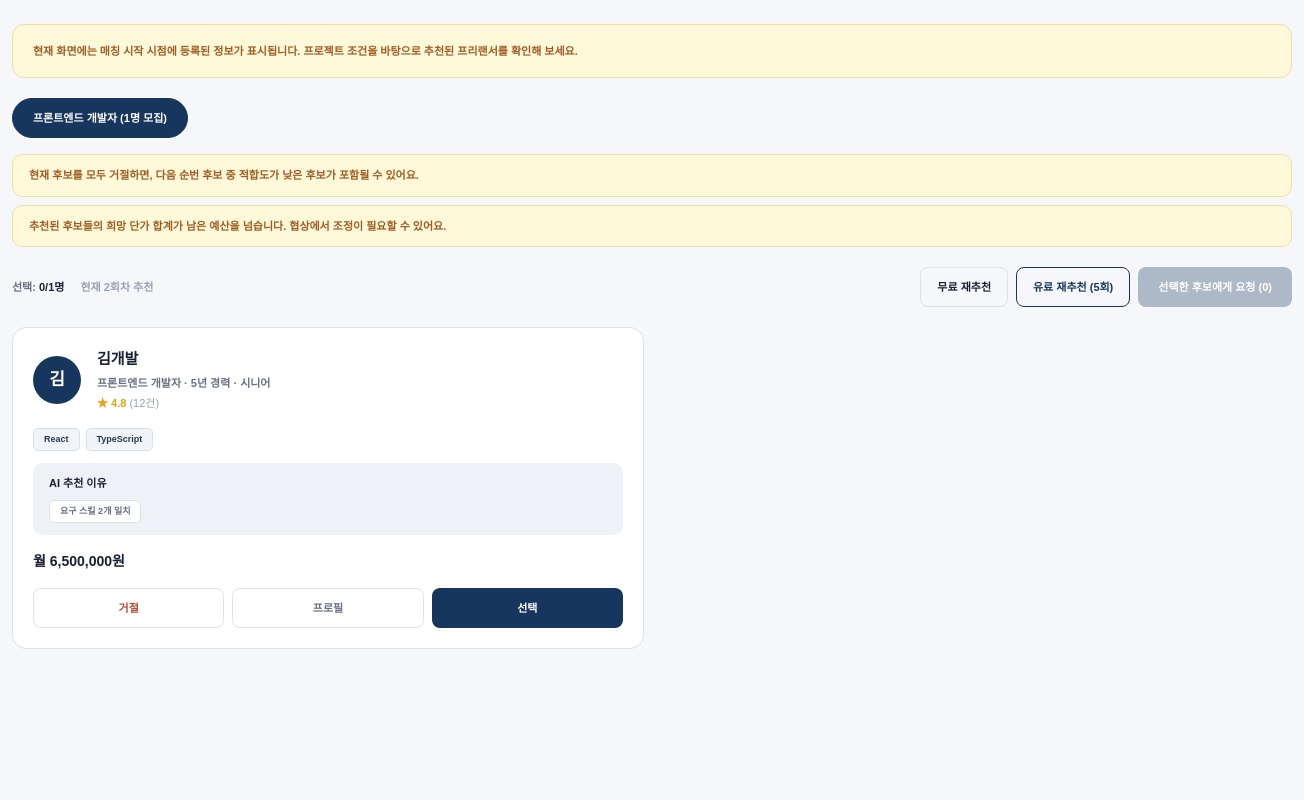
Test: RecommendedCandidates › 선택한 candidateId로 매칭 요청을 보내고 목록을 다시 조회한다
Click the button "선택" at (527, 608), box [432,588,623,628]
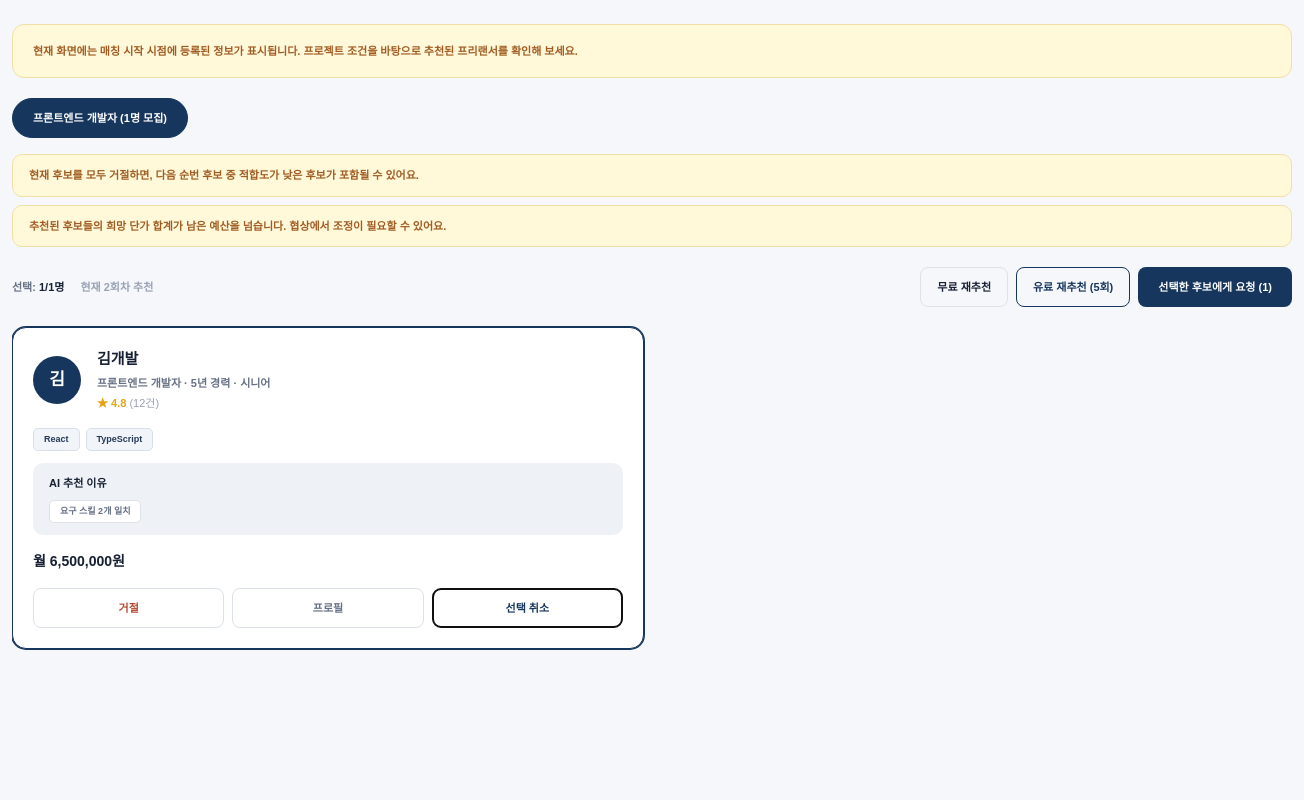
Click the button "선택한 후보에게 요청 (1)" at (1215, 287), box [1138,267,1292,307]
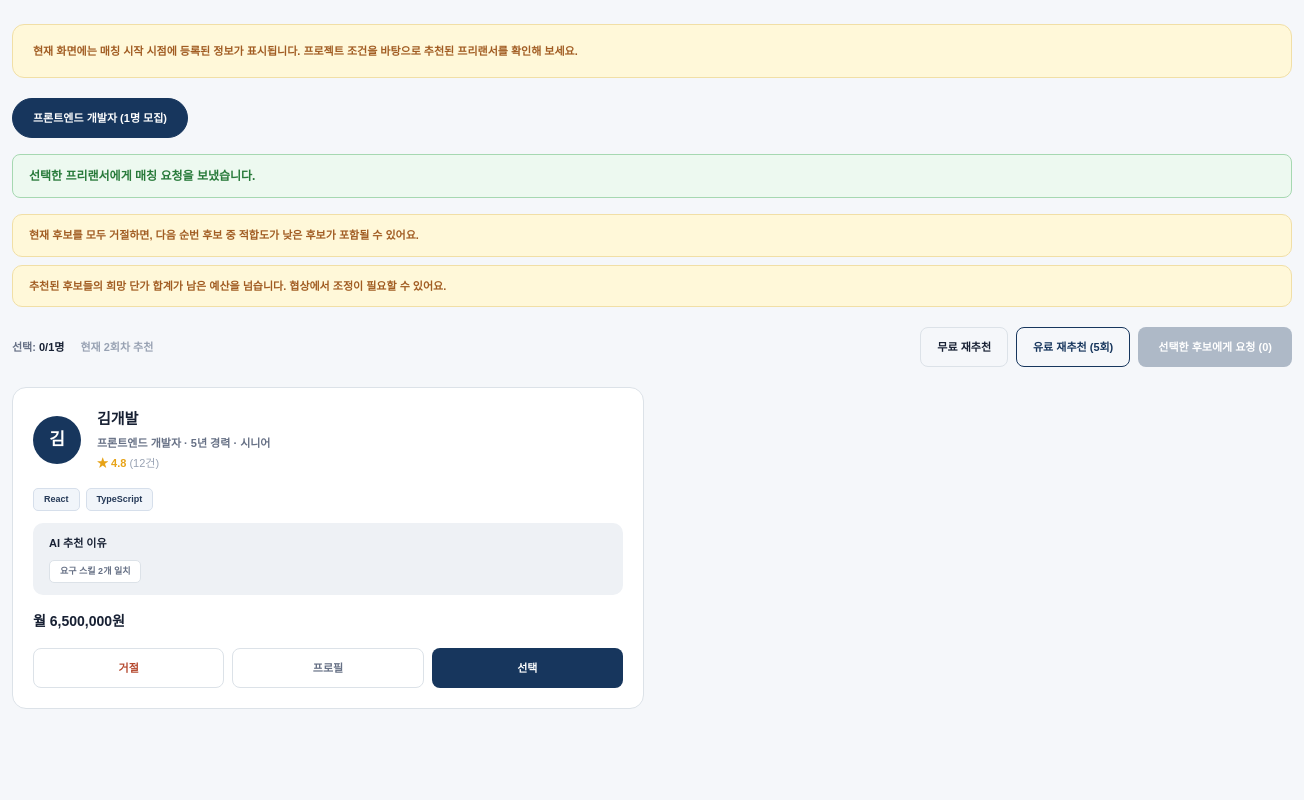
Expected: the text "선택한 프리랜서에게 매칭 요청을 보냈습니다." is shown, [12,154,1292,198]
